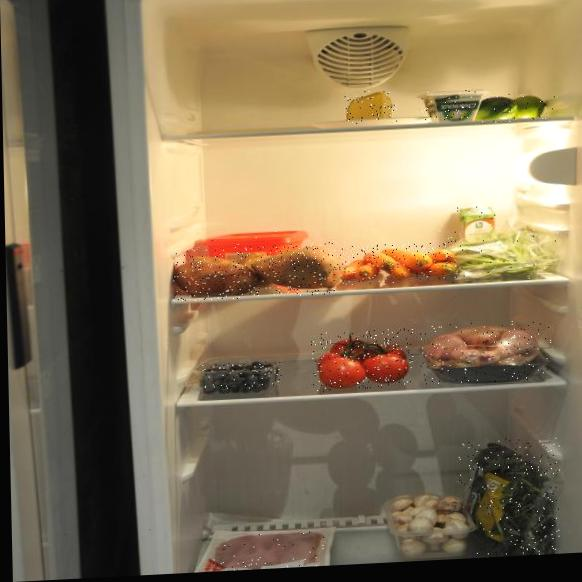blueberries: (202, 361, 282, 391)
butter: (195, 225, 316, 278)
carrot: (337, 241, 459, 286)
cheese: (344, 90, 398, 124)
chicken: (419, 319, 553, 385)
goat_cheese: (422, 89, 489, 121)
green_beans: (439, 218, 563, 283)
ham: (212, 531, 328, 572)
heavy_cream: (456, 205, 497, 254)
lime: (474, 91, 555, 124)
mushrooms: (382, 490, 481, 556)
spinach: (458, 436, 562, 559)
sweet_potato: (173, 242, 338, 303)
tomato: (311, 328, 415, 392)
